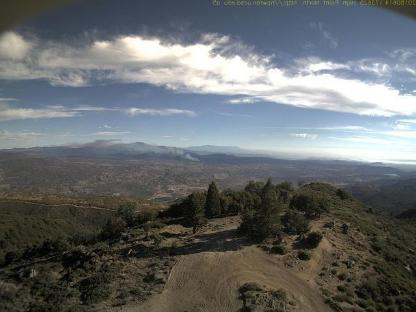smoke: (90, 136, 204, 164)
